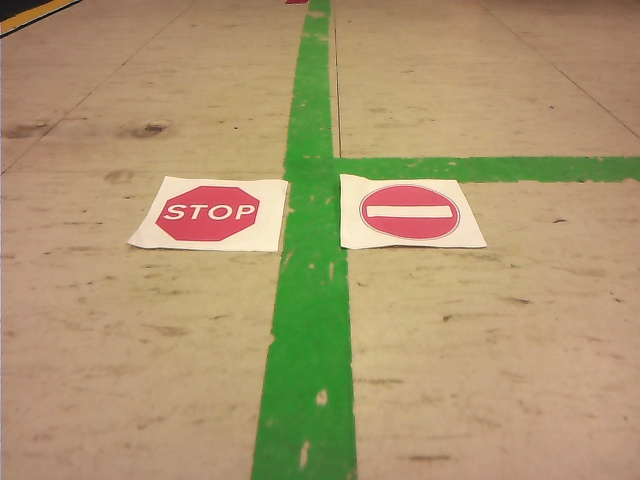NO ENTRY: (361, 185, 459, 239)
STOP: (156, 186, 259, 241)
